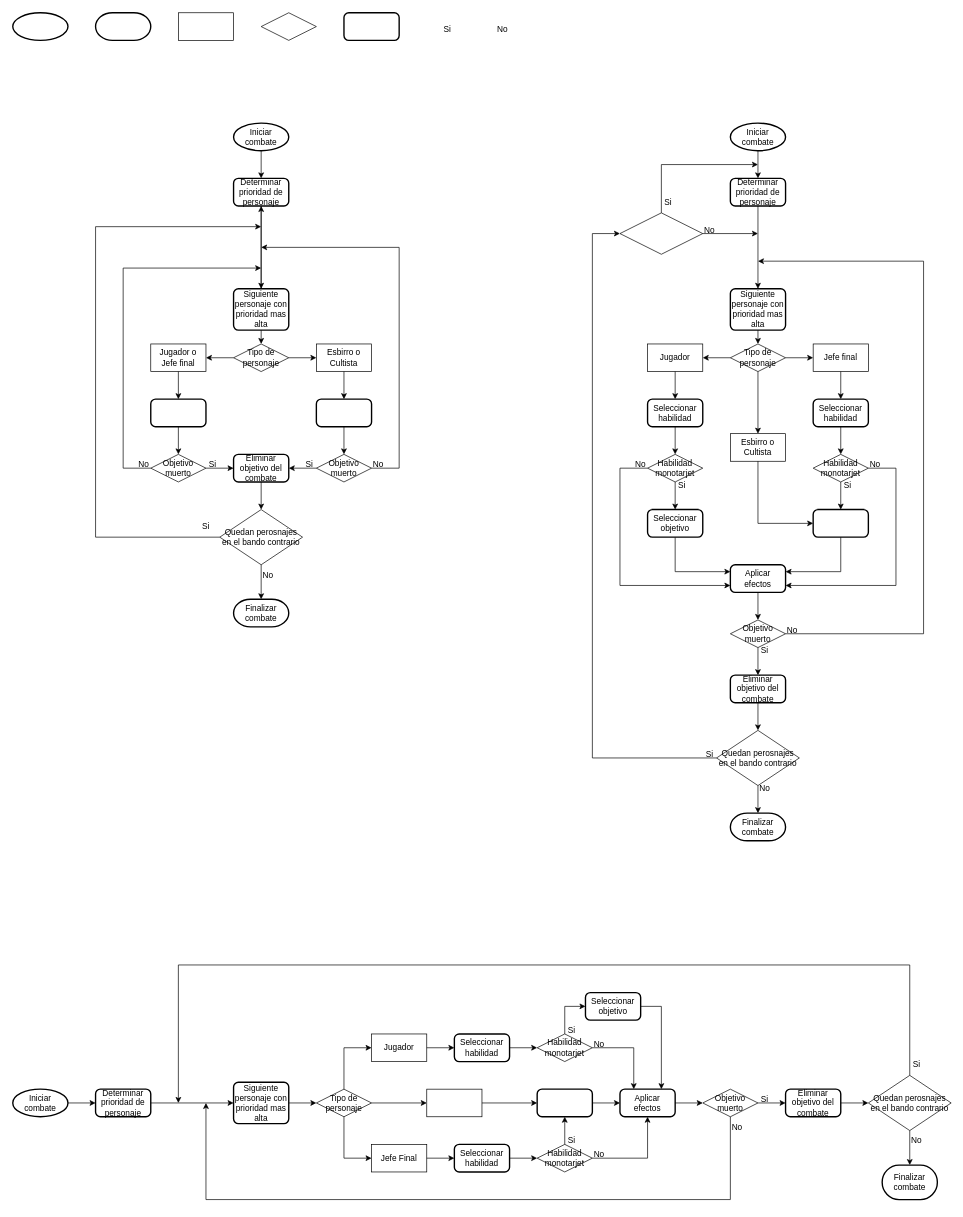
Image size: 963x1217. Some labels were removed from this diagram. Here are the shapes that lost their labels. From the top down, the box of each, then its label:
(12, 12, 68, 41): Inicio
(95, 12, 151, 41): Fin
(178, 12, 234, 40): Opcion
(260, 12, 316, 40): Decision
(343, 12, 400, 41): Proceso
(619, 212, 703, 254): Han actuado todos los personajes
(150, 398, 206, 427): Seleccionar habilidad y aplicar efectos
(315, 398, 372, 427): Atacar y aplicar efectos
(812, 509, 869, 538): Atacar PJ con mas agro
(426, 1088, 482, 1117): Cultista o Esbirro
(536, 1088, 593, 1117): Atacar al PJ con mas agro
